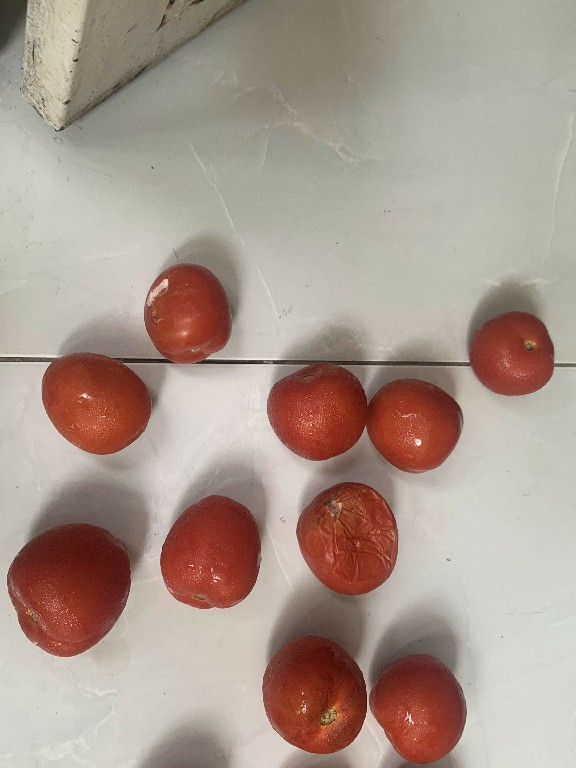NG: (252, 632, 375, 758), (285, 477, 401, 604), (138, 259, 236, 371)
OK: (6, 511, 140, 661), (148, 484, 269, 614), (38, 341, 161, 460), (357, 641, 471, 768), (257, 350, 372, 467), (365, 367, 470, 470), (461, 301, 560, 406)
